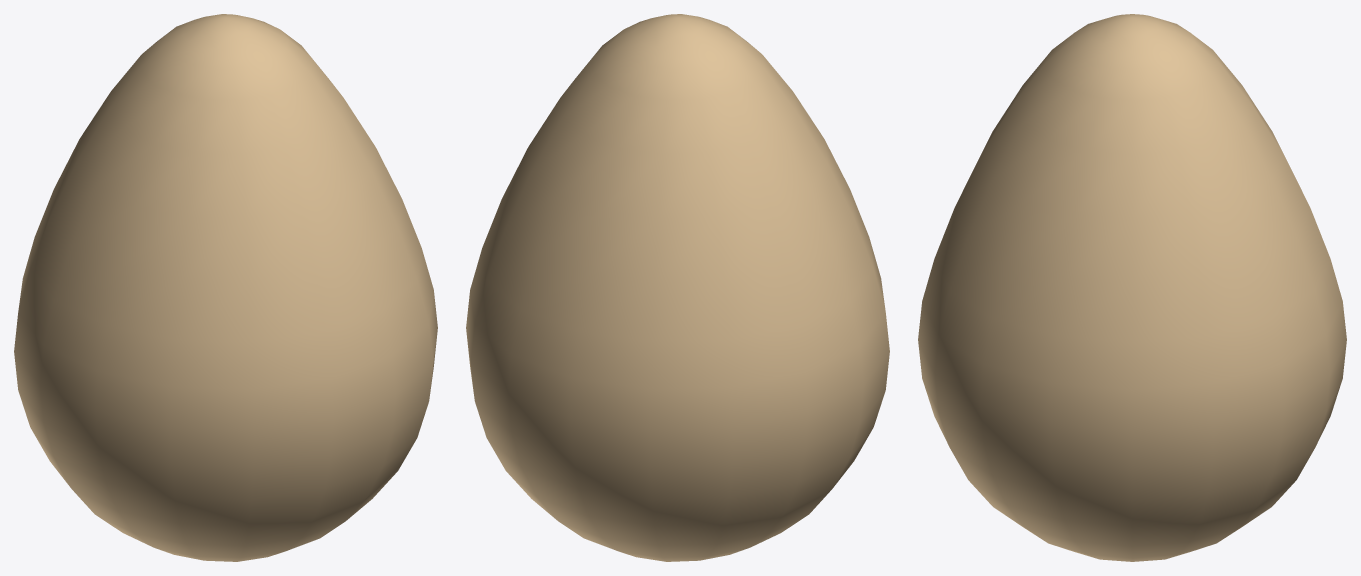
File: Egg.fbx
3 renders of one model, left to right at view 1: azimuth 30°, elevation 25°; view 2: azimuth 150°, elevation 25°; view 3: azimuth 270°, elevation 25°, orthographic.
Visible parts, largest first — view 1: pSphere1; view 2: pSphere1; view 3: pSphere1.
Boxes of the visible parts, x1,y1,x2,y2 form: pSphere1: (14,14,437,561); pSphere1: (466,14,889,561); pSphere1: (918,14,1346,561).
Bounding box in the file's own units: 5.06 × 6.84 × 5.06.
